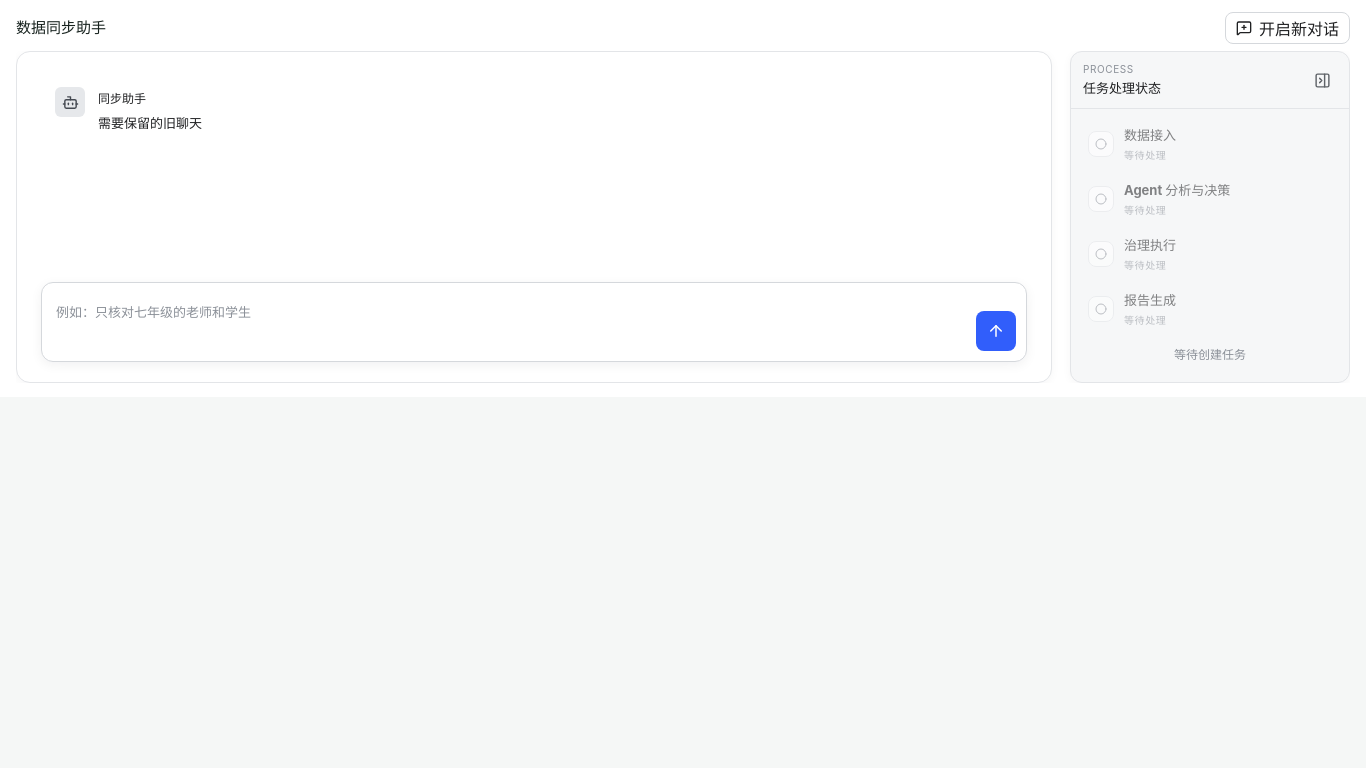
Test: backend Agent conversation › keeps existing chat when new-conversation reset fails
Check: the text "需要保留的旧聊天" is shown, box [98,115,202,131]
Click the button "开启新对话": (1288, 28) [1225,12,1350,44]
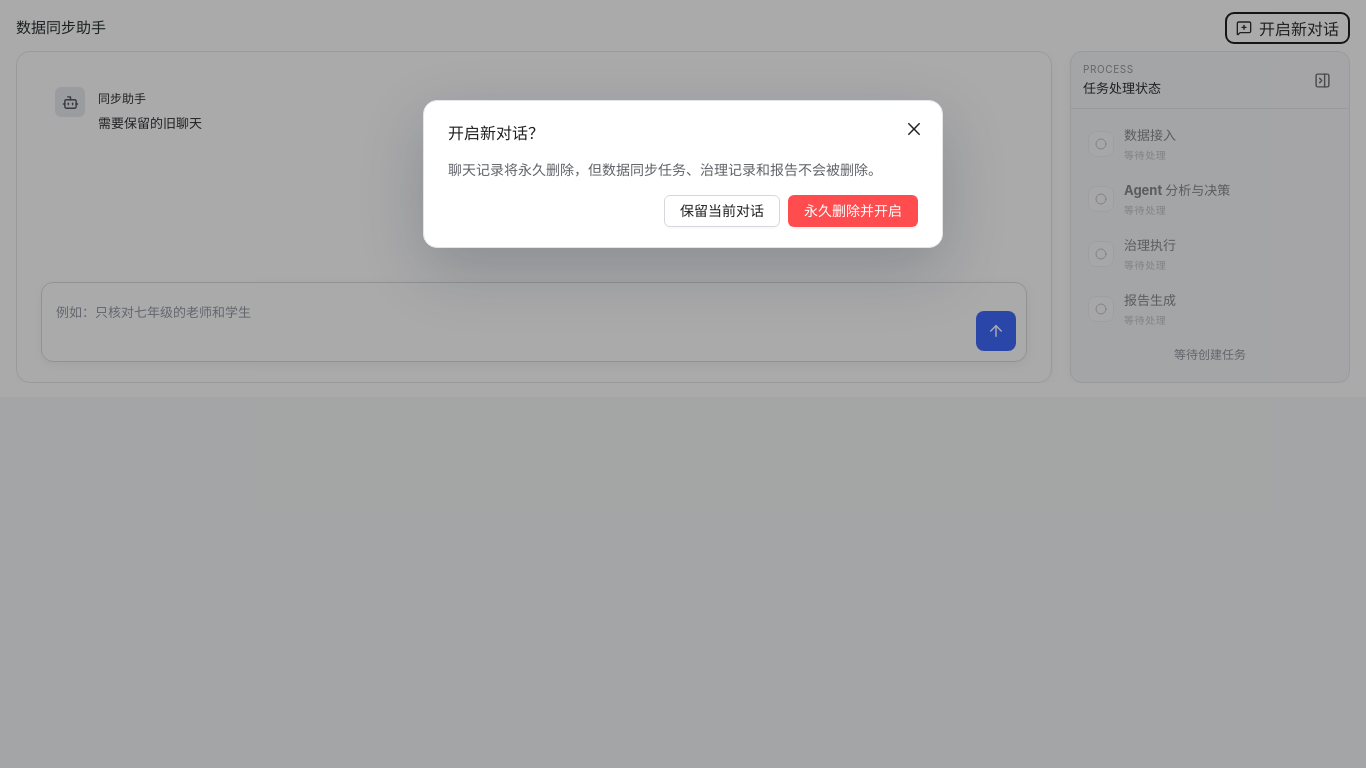
Click the button "永久删除并开启": (853, 211) [788,195,918,227]
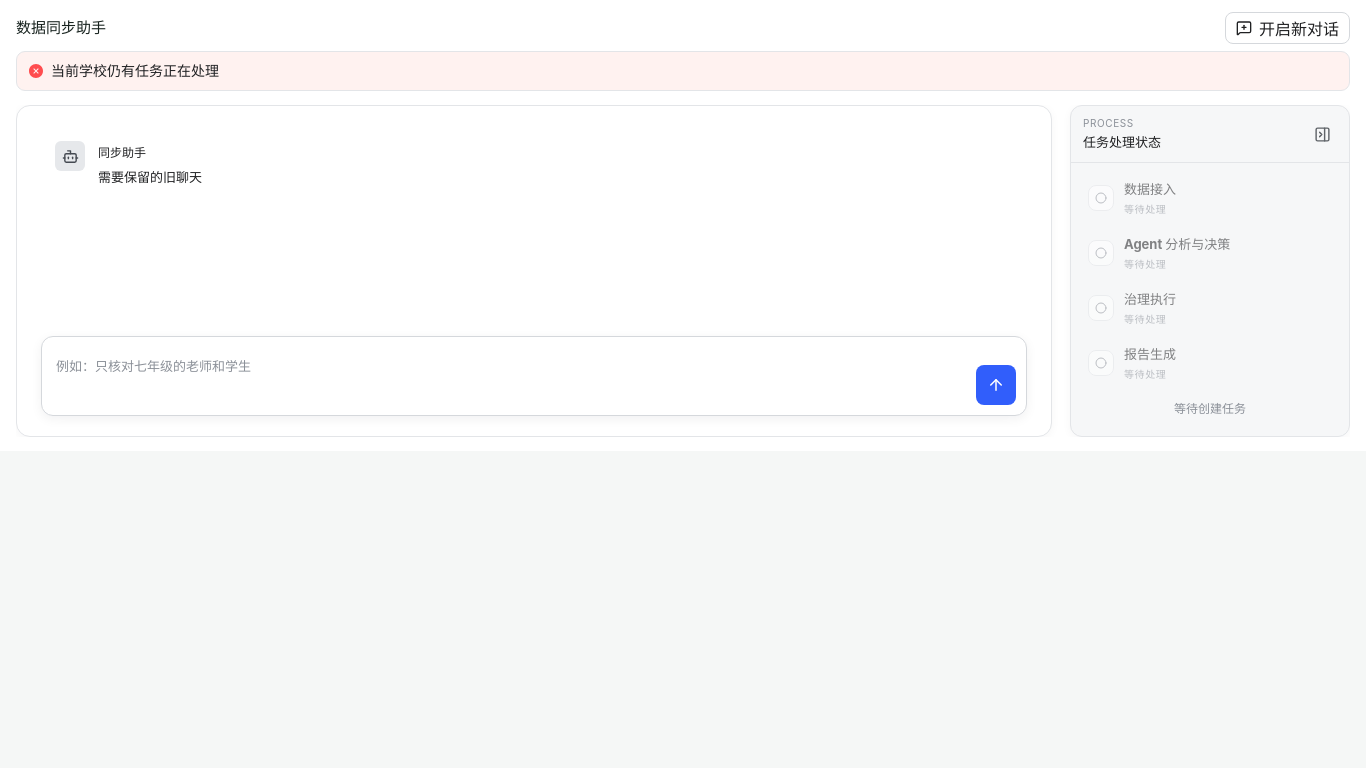
Check: the text "需要保留的旧聊天" is shown, box [98,169,202,185]
Check: the text "当前学校仍有任务正在处理" is shown, box [51,62,219,79]
